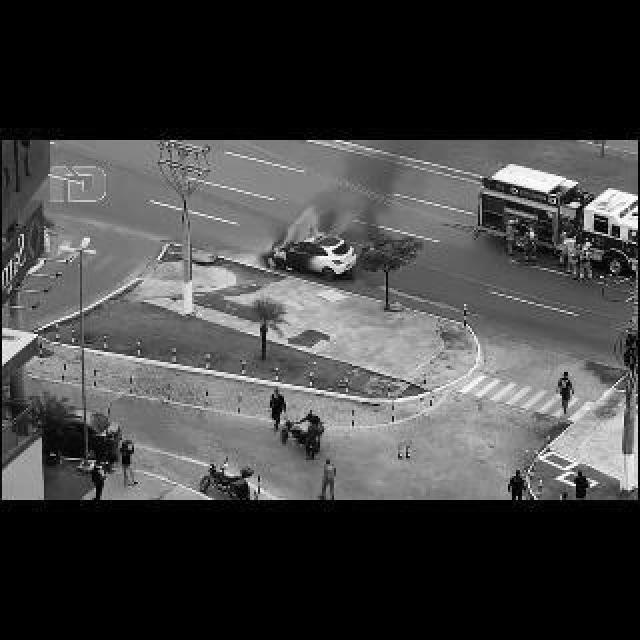fire: (279, 209, 321, 252)
